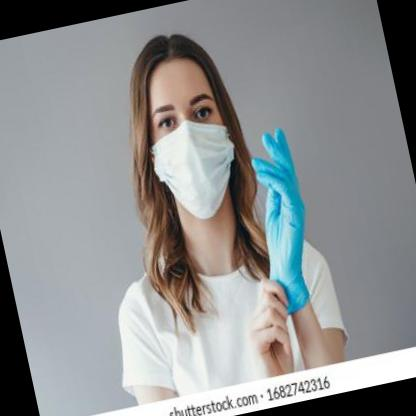Gloves: (237, 124, 326, 317)
